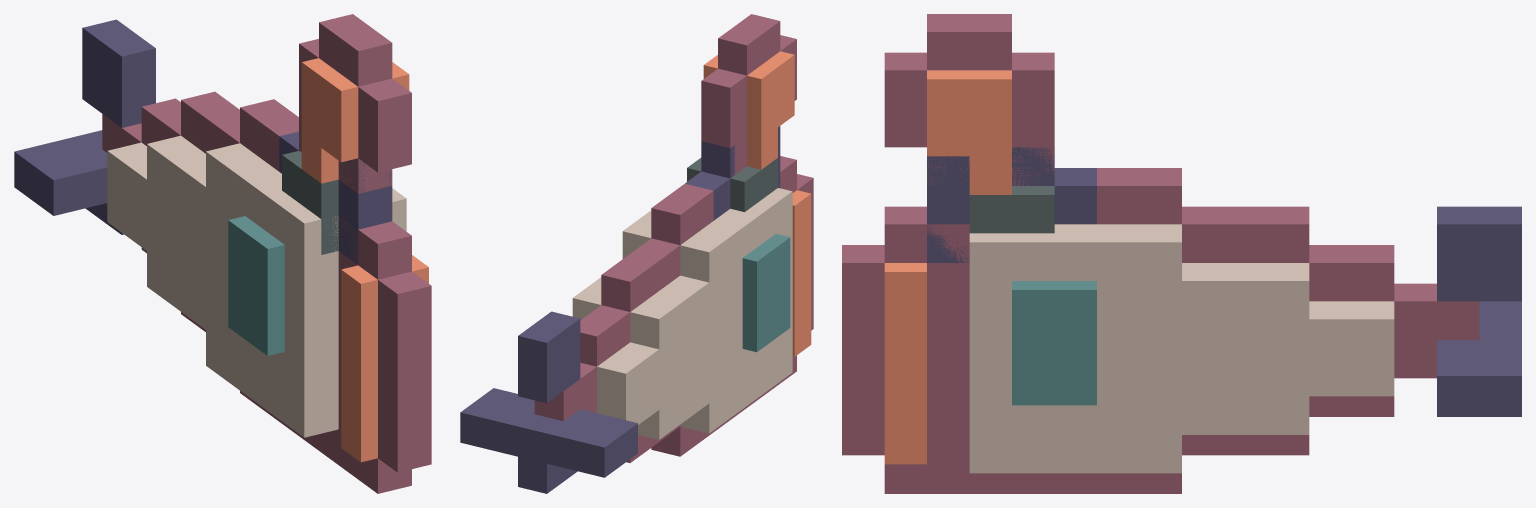
Rendered from FastShip.fbx.
3 views of the same model, side by side, from view 1: azimuth 30°, elevation 25°; view 2: azimuth 150°, elevation 25°; view 3: azimuth 270°, elevation 25° (orthographic). The views are drawn at different scales.
Parts seen in each view (by area): view 1: Sprite1, Cube.001; view 2: Sprite1, Cube.001; view 3: Sprite1, Cube.001.
Boxes of the visible parts, <box> form: Sprite1: <box>82,14,431,436</box>; Cube.001: <box>14,98,431,493</box>; Sprite1: <box>518,14,813,493</box>; Cube.001: <box>460,69,813,477</box>; Sprite1: <box>842,14,1521,455</box>; Cube.001: <box>842,109,1521,493</box>.
Bounding box in the file's own units: 1000 × 2400 × 3200.
